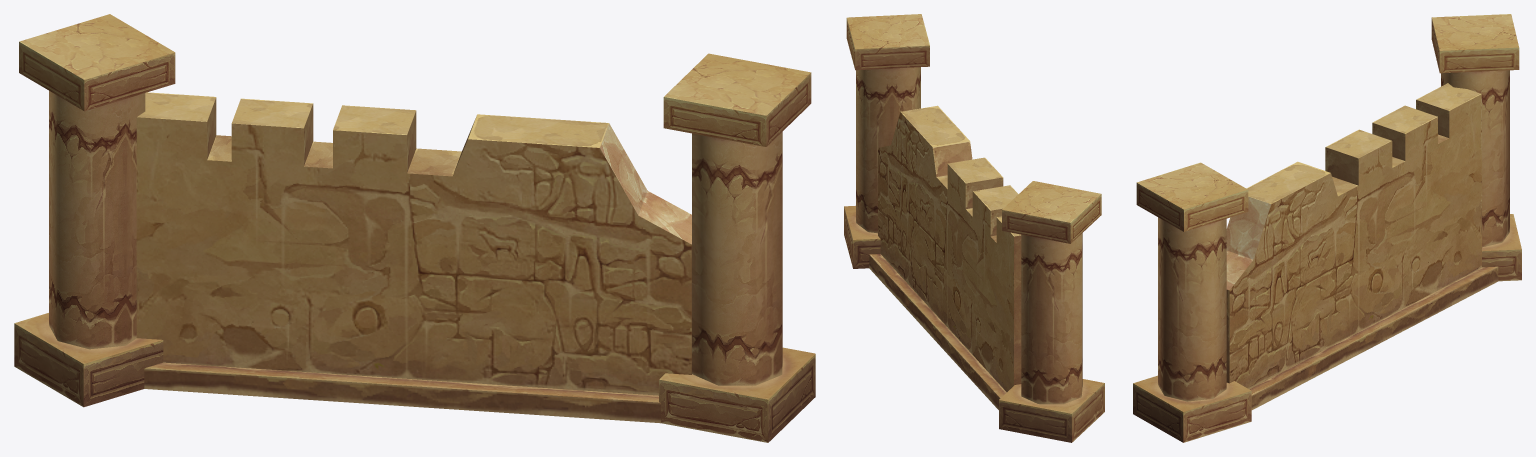
File: Area_15_24.fbx
3 renders of one model, left to right at view 1: azimuth 30°, elevation 25°; view 2: azimuth 150°, elevation 25°; view 3: azimuth 270°, elevation 25°, orthographic. The views are drawn at different scales.
Parts seen in each view (by area): view 1: Area_15_24; view 2: Area_15_24; view 3: Area_15_24.
Part boxes in pixels (x1,y1,x2,y2): Area_15_24: (14, 14, 815, 442); Area_15_24: (844, 14, 1104, 442); Area_15_24: (1133, 14, 1521, 442).
Bounding box in the file's own units: 751 × 409 × 623.
